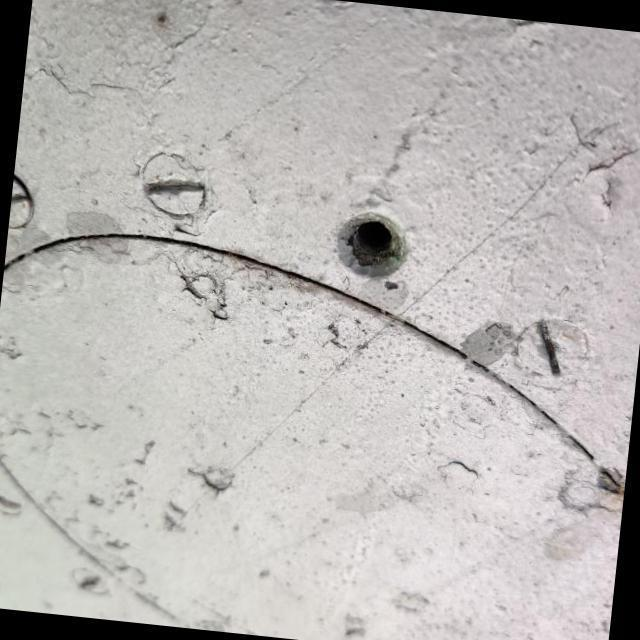Fastener Damage: (285, 170, 456, 341)
